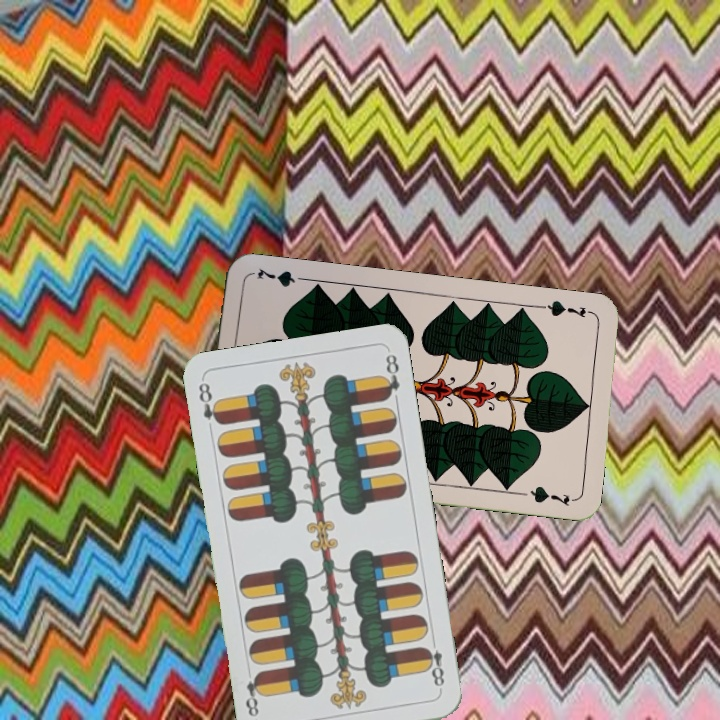E8: (420, 634, 447, 694), (194, 378, 224, 427)
G7: (537, 296, 596, 321)
